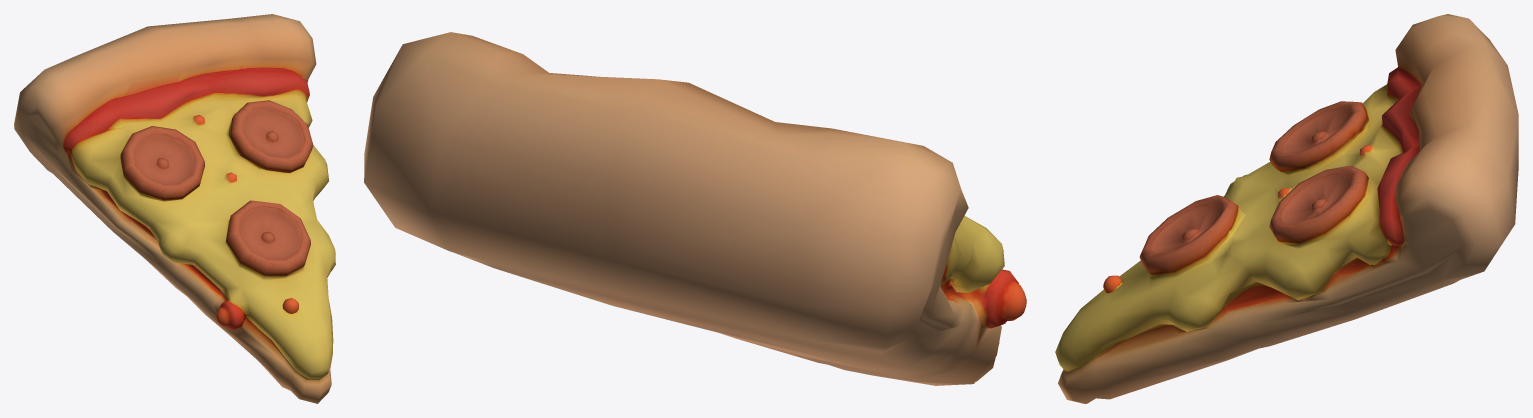
File: pizza_slice-2026-03-27-135756.glb
3 views of the same model, side by side, from view 1: azimuth 30°, elevation 25°; view 2: azimuth 150°, elevation 25°; view 3: azimuth 270°, elevation 25° (orthographic). The views are drawn at different scales.
Visible parts, largest first — view 1: tripo_node_2085e057-266a-4f9c-b4b8-3a359e776413; view 2: tripo_node_2085e057-266a-4f9c-b4b8-3a359e776413; view 3: tripo_node_2085e057-266a-4f9c-b4b8-3a359e776413.
Boxes of the visible parts, <box> form: tripo_node_2085e057-266a-4f9c-b4b8-3a359e776413: <box>14,14,335,403</box>; tripo_node_2085e057-266a-4f9c-b4b8-3a359e776413: <box>364,32,1026,385</box>; tripo_node_2085e057-266a-4f9c-b4b8-3a359e776413: <box>1055,14,1518,403</box>.
Size of the model in its own units: 0.8945 by 0.7888 by 1.
Materials: 1 (1 with a texture image).
